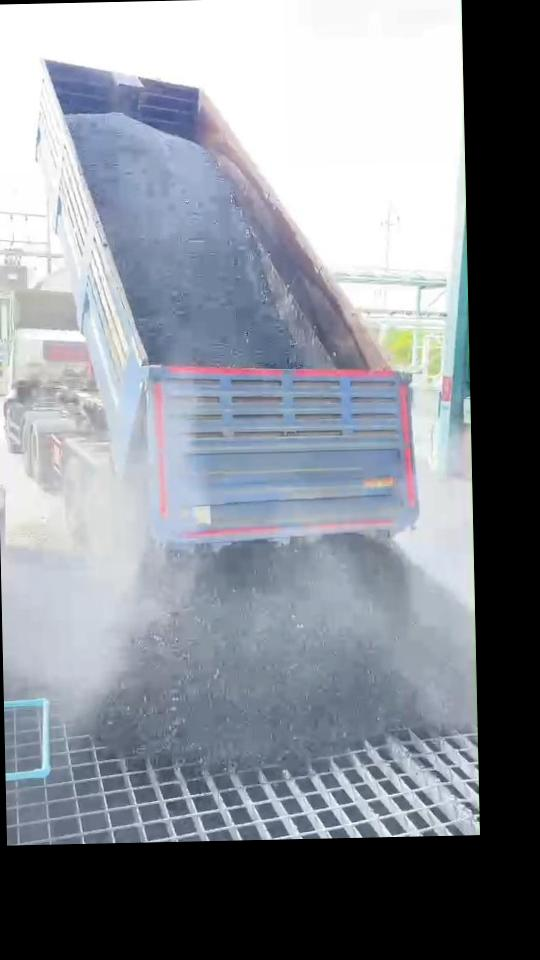gravel: (102, 535, 475, 761), (68, 114, 302, 367)
